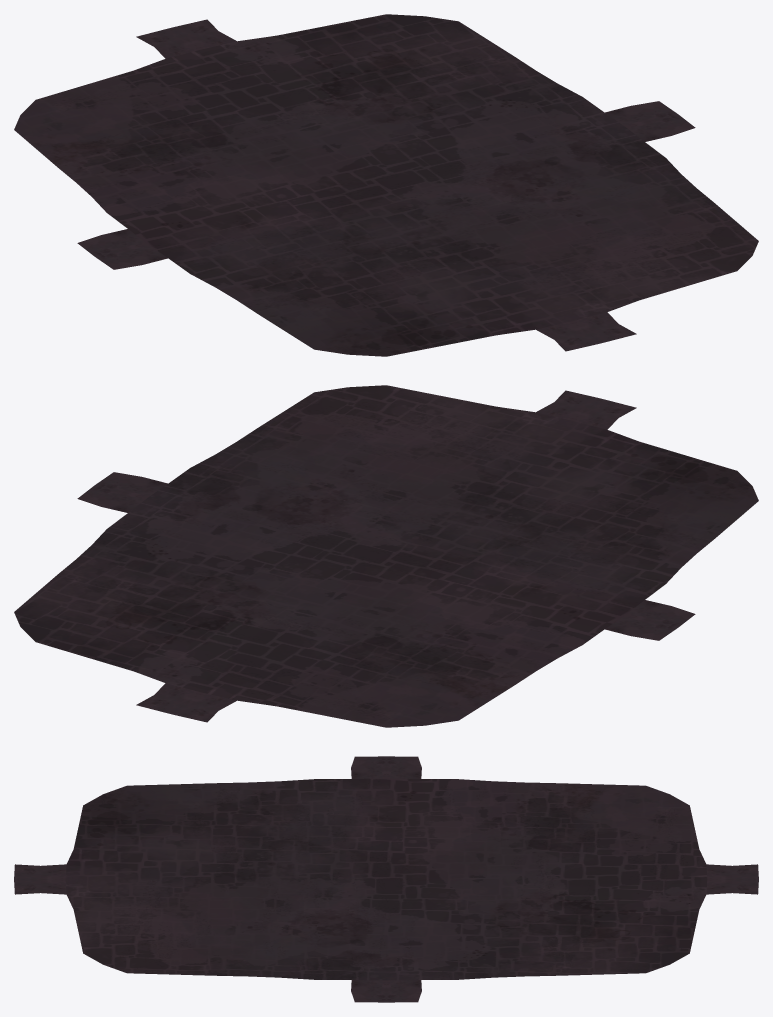
Rendered from miniboss_plane.fbx.
3 renders of one model, top to bottom at view 1: azimuth 30°, elevation 25°; view 2: azimuth 150°, elevation 25°; view 3: azimuth 270°, elevation 25°, orthographic. The views are drawn at different scales.
Visible parts, largest first — view 1: mini boss ground, mini boss ground.001, mini boss ground.003, mini boss ground.002, mini boss ground.004; view 2: mini boss ground, mini boss ground.001, mini boss ground.003, mini boss ground.002, mini boss ground.004; view 3: mini boss ground, mini boss ground.001, mini boss ground.003, mini boss ground.002, mini boss ground.004.
Boxes of the visible parts, x1,y1,x2,y2 form: mini boss ground: [14, 14, 758, 356]; mini boss ground.001: [605, 101, 695, 141]; mini boss ground.003: [77, 229, 167, 269]; mini boss ground.002: [536, 312, 636, 351]; mini boss ground.004: [136, 19, 236, 58]; mini boss ground: [14, 385, 758, 727]; mini boss ground.001: [77, 472, 167, 512]; mini boss ground.003: [605, 600, 695, 640]; mini boss ground.002: [536, 390, 636, 429]; mini boss ground.004: [136, 683, 236, 722]; mini boss ground: [65, 778, 707, 980]; mini boss ground.001: [351, 980, 421, 1002]; mini boss ground.003: [351, 756, 421, 778]; mini boss ground.002: [14, 864, 66, 894]; mini boss ground.004: [706, 864, 758, 894].
Bounding box in the file's own units: 3050 × 0.000635 × 3900.
